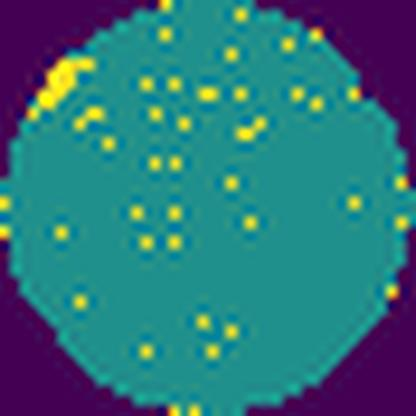Edge-Loc: (24, 45, 96, 125)
